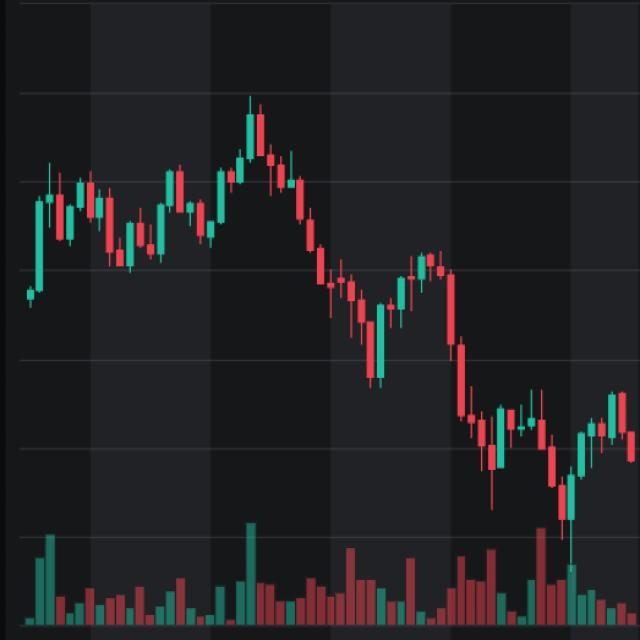Support-breakout: (98, 103, 372, 378)
